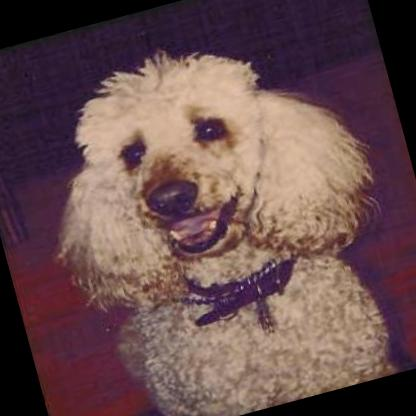standard_poodle: (12, 11, 416, 416)
